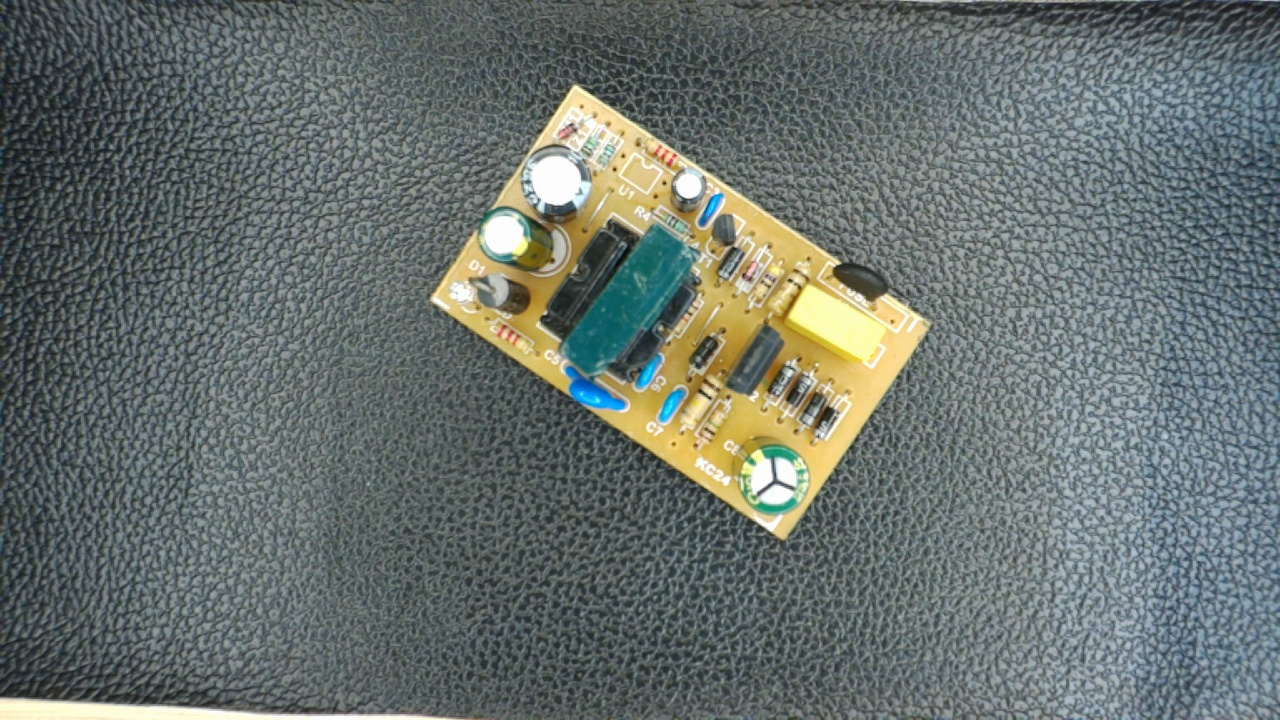fuse: (818, 252, 893, 314)
hv_capacitor: (729, 432, 812, 516)
mov: (554, 360, 633, 416)
